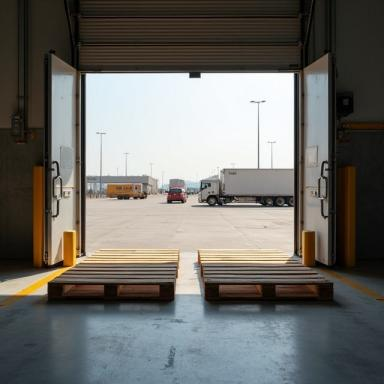pallet: (47, 248, 180, 301), (198, 249, 334, 300)
